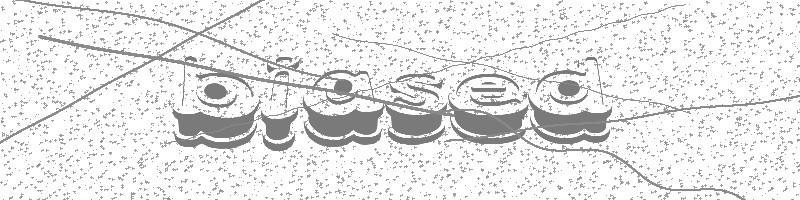a: (301, 66, 391, 152)
b: (170, 48, 261, 156)
d: (528, 53, 620, 146)
e: (448, 70, 532, 151)
i: (258, 48, 304, 153)
s: (378, 71, 449, 149)
